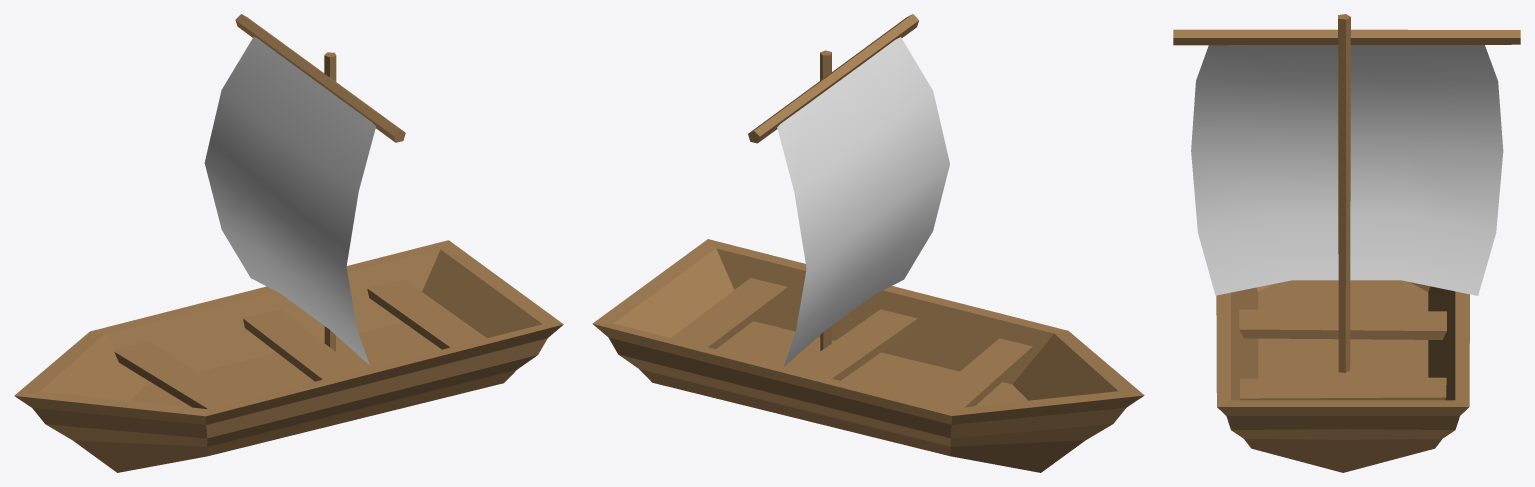
The model's file is boat01_only.fbx.
3 renders of one model, left to right at view 1: azimuth 30°, elevation 25°; view 2: azimuth 150°, elevation 25°; view 3: azimuth 270°, elevation 25°, orthographic. The views are drawn at different scales.
Parts seen in each view (by area): view 1: boat_01; view 2: boat_01; view 3: boat_01.
Part boxes in pixels (x1,y1,x2,y2): boat_01: (14,14,563,472); boat_01: (592,14,1144,472); boat_01: (1173,14,1520,472).
Bounding box in the file's own units: 254 × 455 × 324.
